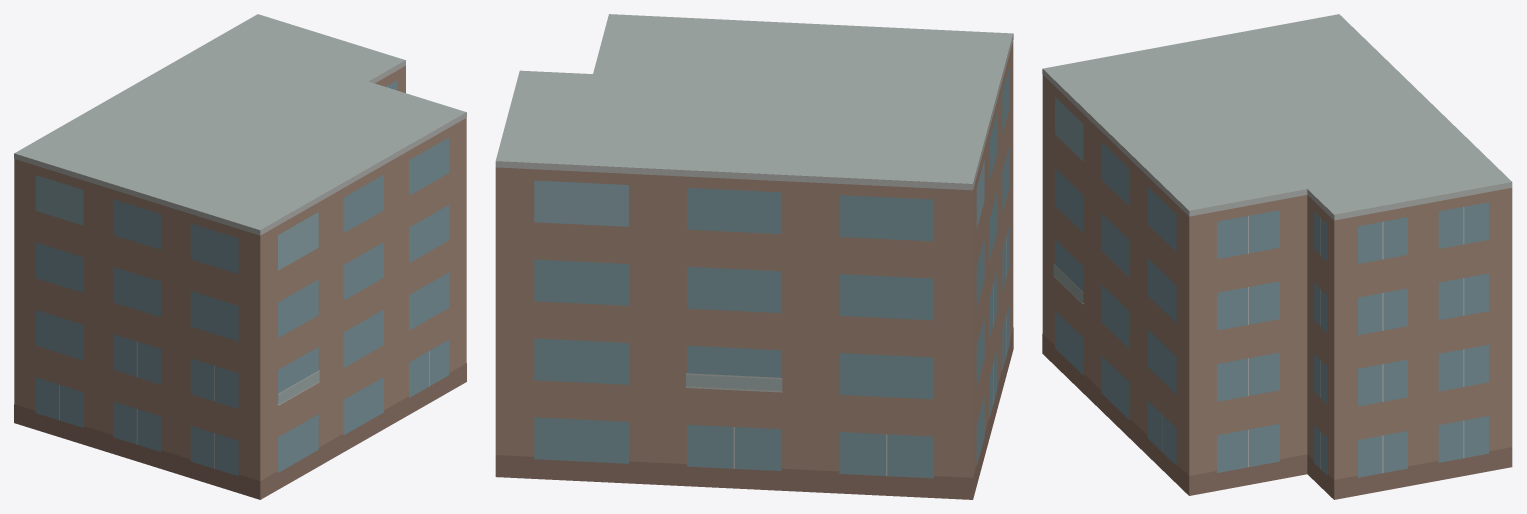
Rendered from residential-52e068e9-0fac-4e1b-9e03-13ad4d6ec5cb.glb.
3 renders of one model, left to right at view 1: azimuth 30°, elevation 25°; view 2: azimuth 150°, elevation 25°; view 3: azimuth 270°, elevation 25°, orthographic. The views are drawn at different scales.
Parts seen in each view (by area): view 1: residential-52e068e9-0fac-4e1b-9e03-13ad4d6ec5cb.tmp; view 2: residential-52e068e9-0fac-4e1b-9e03-13ad4d6ec5cb.tmp; view 3: residential-52e068e9-0fac-4e1b-9e03-13ad4d6ec5cb.tmp.
Part boxes in pixels (left/top/right/bottom): residential-52e068e9-0fac-4e1b-9e03-13ad4d6ec5cb.tmp: left=14, top=14, right=466, bottom=499; residential-52e068e9-0fac-4e1b-9e03-13ad4d6ec5cb.tmp: left=495, top=14, right=1013, bottom=499; residential-52e068e9-0fac-4e1b-9e03-13ad4d6ec5cb.tmp: left=1042, top=14, right=1512, bottom=499.
Bounding box in the file's own units: 18.44 × 12.2 × 18.23.
